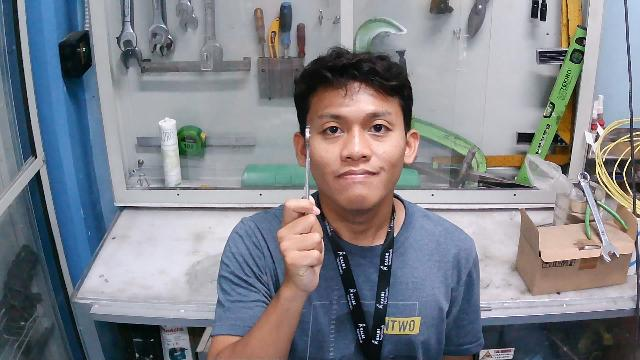kunci_pass_13: (282, 123, 331, 228)
